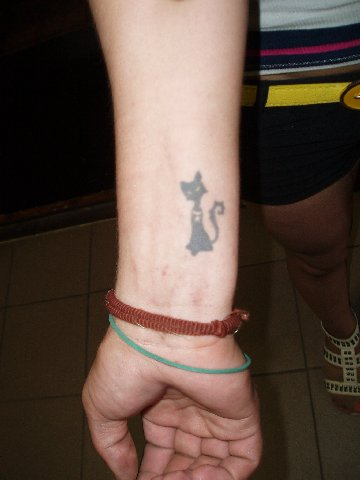tatu8_kot: (170, 169, 228, 258)
